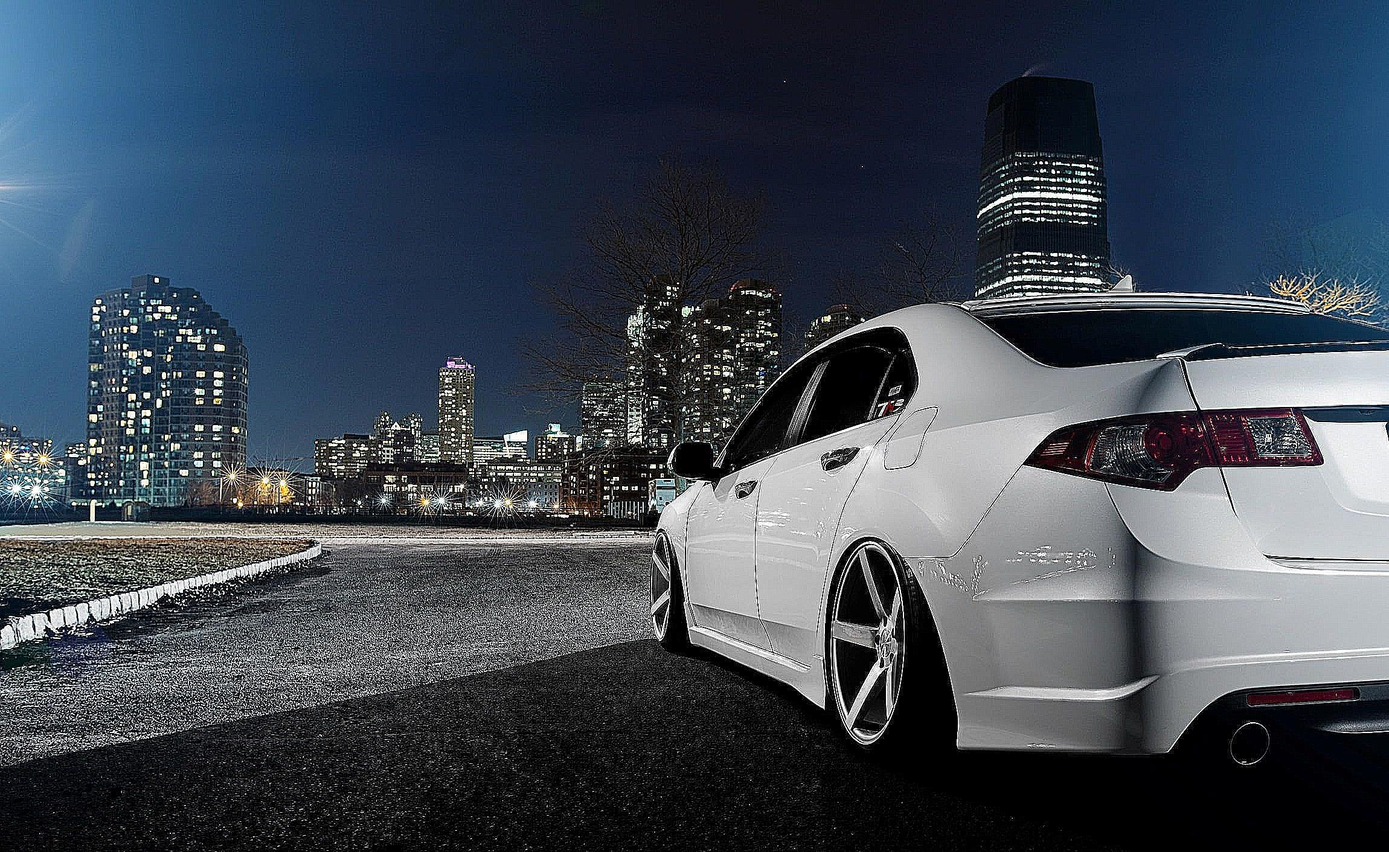Car boot: (1170, 349, 1389, 564)
Fender - -F-L-: (652, 486, 705, 634)
Fender - -R-L-: (815, 405, 1072, 707)
Passenger-s door - -F-L-: (683, 337, 778, 667)
Passenger-s door - -R-L-: (754, 322, 914, 675)
Rear bumper: (905, 483, 1389, 771)
Rear light - -L-: (1016, 400, 1330, 497)
Side bumper - -L-: (675, 618, 833, 714)
Side mirror - -L-: (655, 424, 732, 491)
